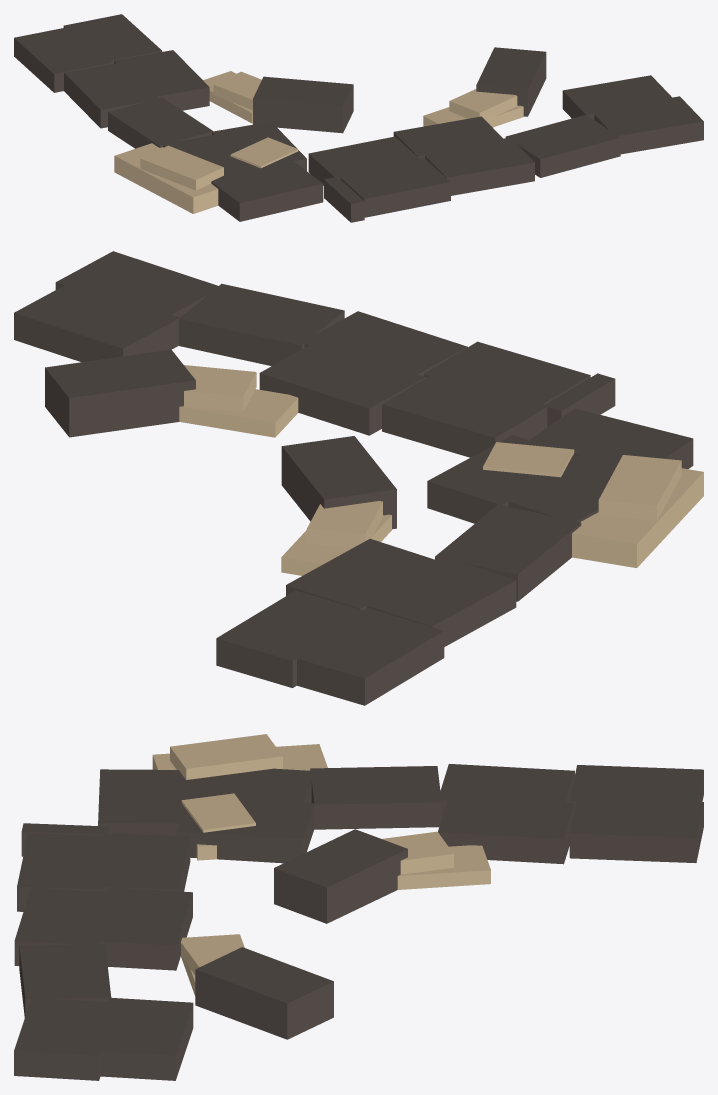
The model's file is SM_PretilEsquina_v1_Talud_e3_Brecha_LOD1.fbx.
The picture shows the model from 3 angles, top to bottom: view 1: azimuth 30°, elevation 25°; view 2: azimuth 150°, elevation 25°; view 3: azimuth 270°, elevation 25°; orthographic projection. The views are drawn at different scales.
Parts seen in each view (by area): view 1: SM_pretil_azotea_v27_LOD1; view 2: SM_pretil_azotea_v27_LOD1; view 3: SM_pretil_azotea_v27_LOD1.
Boxes of the visible parts, box(x1,y1,x2,y2) form: SM_pretil_azotea_v27_LOD1: box(14, 14, 703, 222); SM_pretil_azotea_v27_LOD1: box(14, 251, 703, 705); SM_pretil_azotea_v27_LOD1: box(14, 734, 703, 1080).
Bounding box in the file's own units: 4.85 × 0.26 × 4.5.
